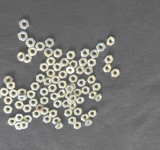nut: (19, 19, 30, 30), (18, 31, 29, 41), (3, 96, 14, 106), (26, 37, 36, 48), (39, 62, 49, 73), (103, 54, 114, 64), (65, 50, 76, 60), (90, 47, 99, 59), (3, 75, 13, 85), (35, 42, 45, 52), (43, 47, 53, 57), (96, 42, 106, 52), (36, 73, 46, 83), (46, 38, 55, 49), (87, 74, 96, 85), (3, 106, 13, 115), (74, 107, 83, 117), (30, 82, 40, 91), (93, 82, 102, 92), (81, 48, 90, 58), (54, 48, 63, 58), (60, 57, 69, 67), (28, 98, 38, 107), (14, 101, 24, 110), (34, 104, 44, 113), (59, 70, 68, 80), (84, 66, 94, 75), (88, 58, 97, 68), (77, 79, 87, 88), (107, 36, 115, 47), (46, 57, 57, 65), (101, 65, 112, 73), (112, 69, 121, 78), (28, 47, 37, 56), (27, 90, 36, 99), (48, 84, 57, 93), (40, 88, 49, 97), (49, 109, 58, 118), (70, 60, 79, 69), (88, 109, 97, 118), (53, 100, 62, 109), (82, 86, 91, 95), (68, 83, 77, 92), (18, 52, 26, 62), (46, 70, 56, 78), (53, 63, 63, 71), (0, 88, 10, 96), (14, 114, 24, 122), (79, 58, 89, 66), (69, 75, 79, 83), (64, 92, 74, 100), (10, 89, 18, 99), (8, 118, 17, 126), (20, 122, 29, 130), (23, 105, 32, 113), (25, 54, 33, 63), (7, 81, 15, 90), (43, 78, 52, 86), (43, 115, 52, 123), (33, 110, 41, 119), (55, 123, 64, 131), (53, 117, 61, 126), (76, 66, 85, 74), (58, 81, 67, 89), (62, 100, 70, 109), (74, 107, 82, 116), (64, 109, 72, 118), (58, 90, 66, 99), (69, 94, 77, 103), (74, 88, 82, 97), (65, 86, 75, 93), (74, 122, 82, 130), (41, 97, 49, 105), (52, 76, 60, 84), (42, 107, 50, 115), (67, 67, 75, 75), (69, 118, 77, 126), (77, 97, 85, 105), (89, 92, 97, 100), (18, 89, 27, 96), (14, 123, 23, 130), (51, 93, 58, 102), (24, 116, 32, 123), (81, 114, 88, 122), (18, 95, 27, 101), (85, 120, 92, 127), (70, 103, 77, 110), (97, 94, 102, 102), (0, 92, 2, 101)
